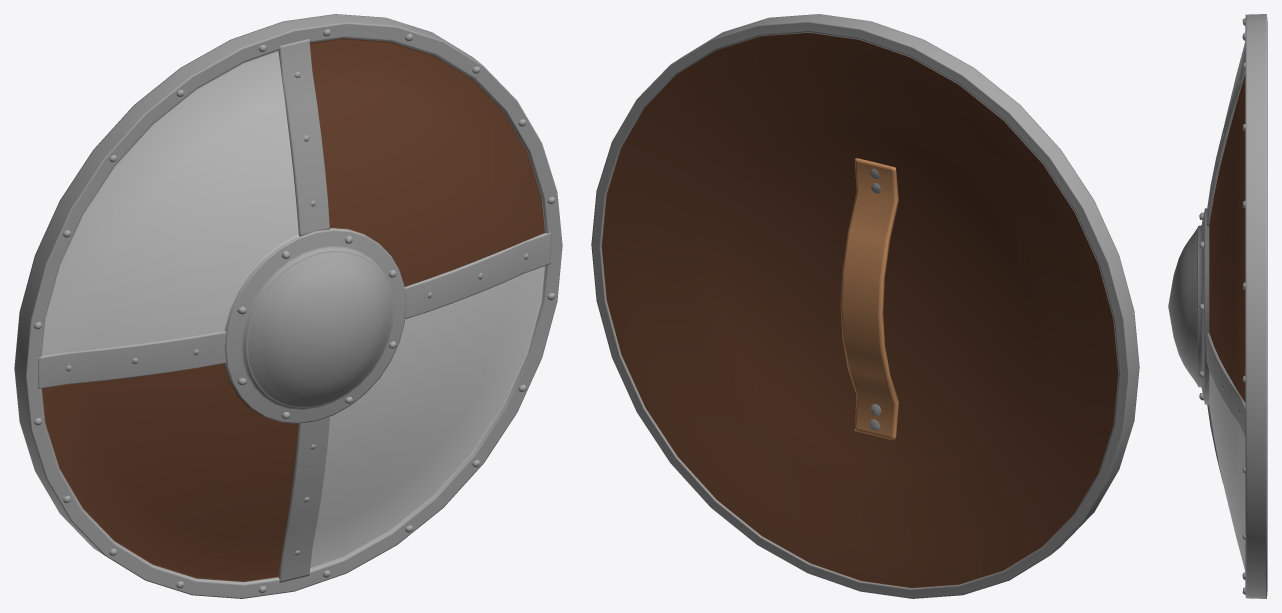
Rendered from NomadShield.fbx.
3 renders of one model, left to right at view 1: azimuth 30°, elevation 25°; view 2: azimuth 150°, elevation 25°; view 3: azimuth 270°, elevation 25°, orthographic. The views are drawn at different scales.
Parts seen in each view (by area): view 1: NomadShield_LOD0; view 2: NomadShield_LOD0; view 3: NomadShield_LOD0.
Boxes of the visible parts, box(x1,y1,x2,y2) form: NomadShield_LOD0: box(14, 14, 562, 598); NomadShield_LOD0: box(591, 14, 1139, 598); NomadShield_LOD0: box(1168, 14, 1267, 598).
Size of what is drawn, in the model's own units: 72.61 by 72.61 by 12.35.
